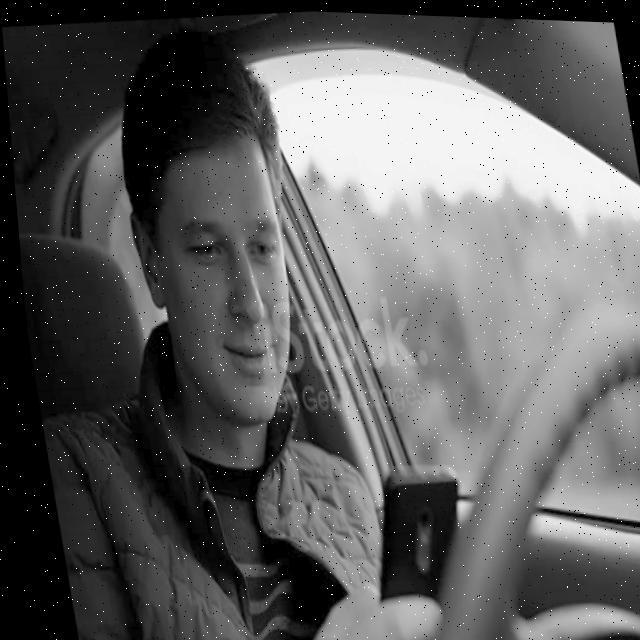PhoneCall: (346, 455, 466, 610)
